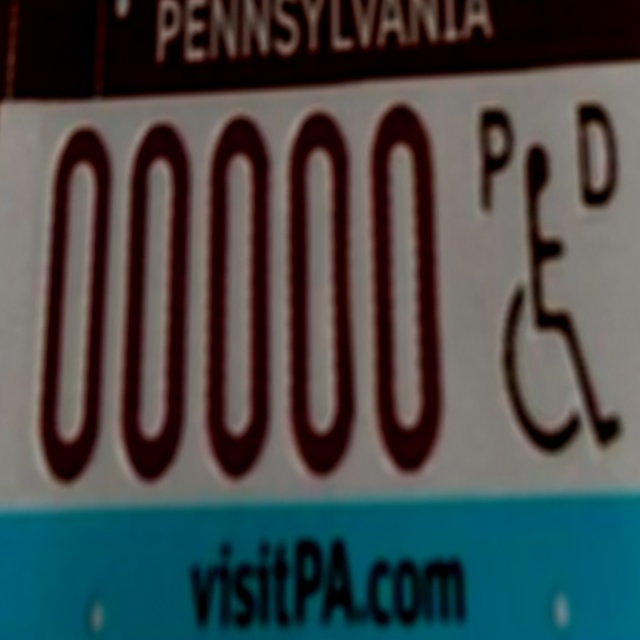ISA: (492, 135, 626, 462)
